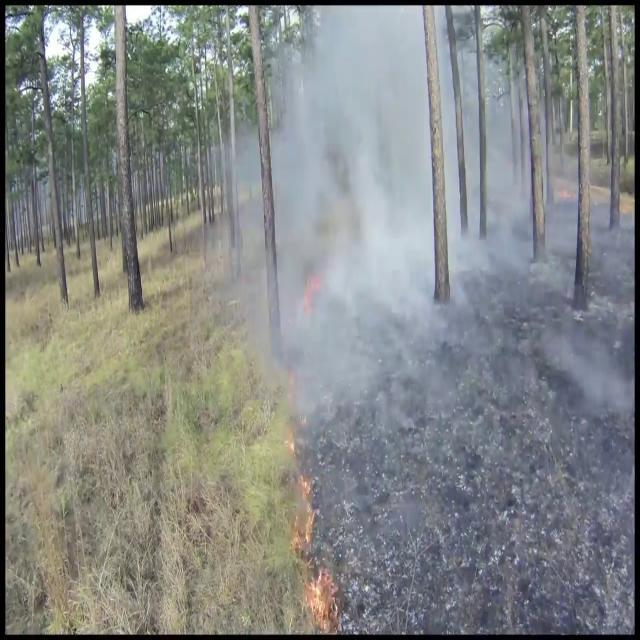Smoke: (208, 8, 582, 440)
